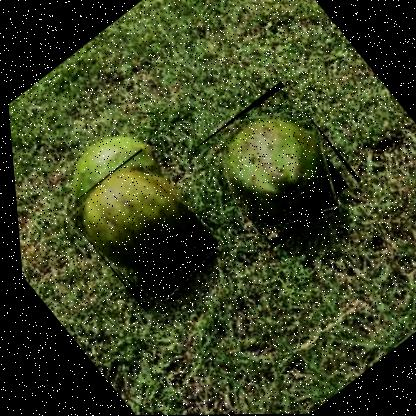guava: (184, 79, 363, 249), (55, 146, 225, 312)
